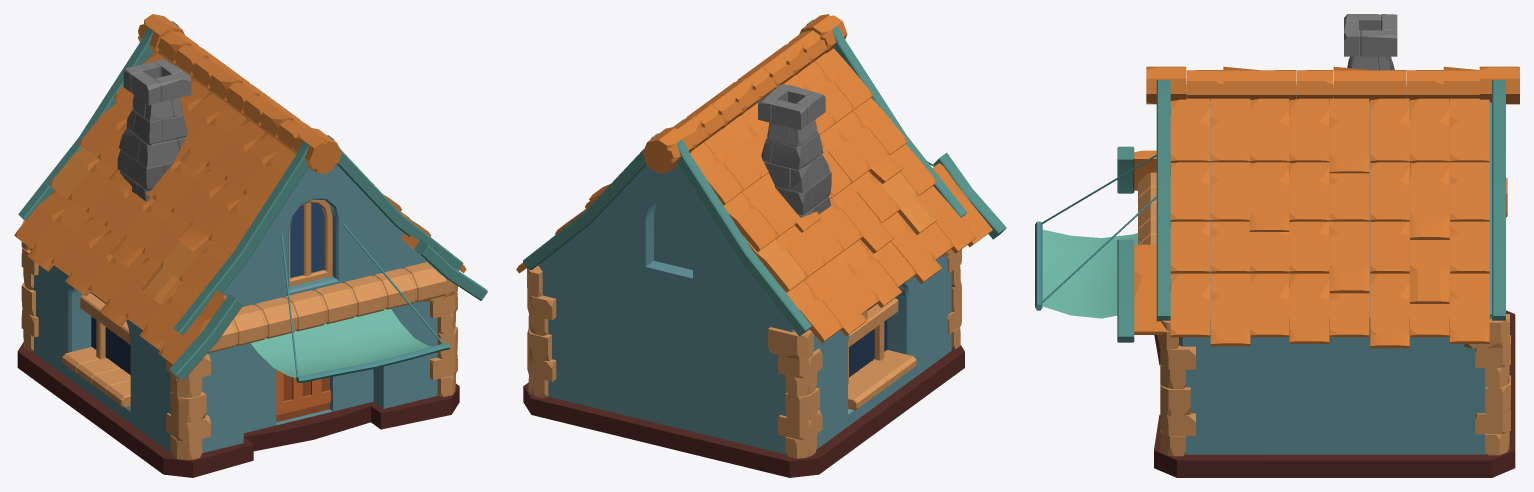
File: house004.fbx
3 views of the same model, side by side, from view 1: azimuth 30°, elevation 25°; view 2: azimuth 150°, elevation 25°; view 3: azimuth 270°, elevation 25° (orthographic). The views are drawn at different scales.
Parts seen in each view (by area): view 1: polySurface2199, polySurface2198; view 2: polySurface2199; view 3: polySurface2199, polySurface2198.
Part boxes in pixels (x1,y1,x2,y2): polySurface2199: (14, 14, 487, 477); polySurface2198: (250, 223, 450, 382); polySurface2199: (516, 14, 1006, 477); polySurface2199: (1117, 14, 1519, 477); polySurface2198: (1035, 154, 1156, 318).
Bounding box in the file's own units: 620 × 580 × 747.
